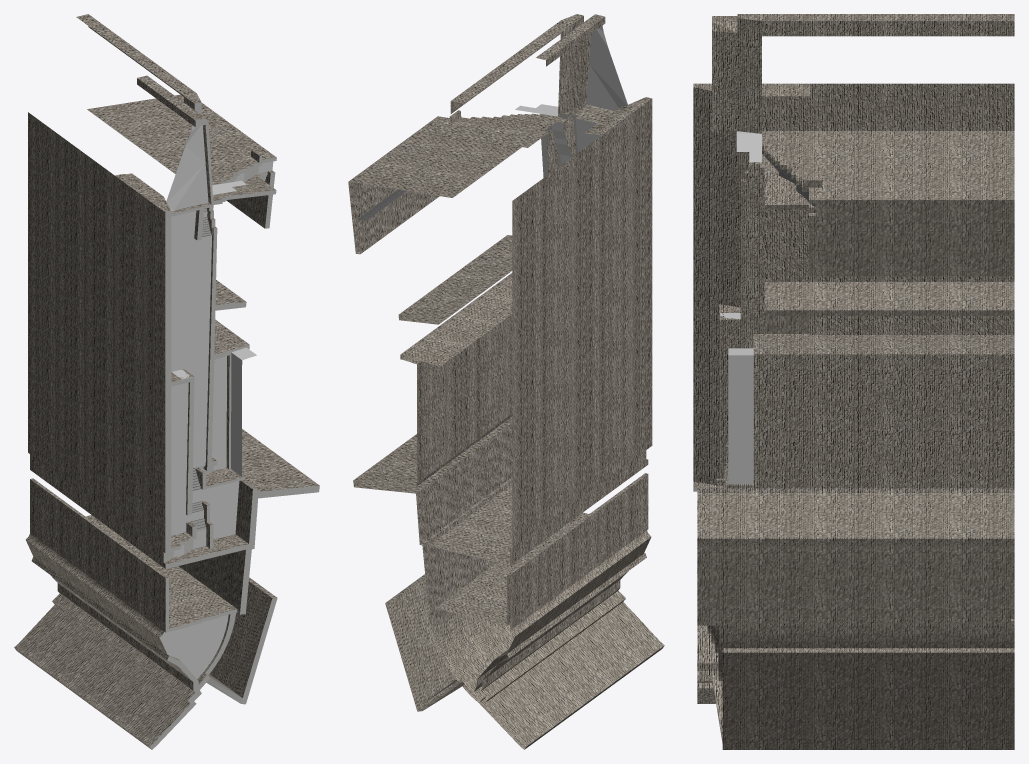
File: Taani_kuninga_aed.obj
3 renders of one model, left to right at view 1: azimuth 30°, elevation 25°; view 2: azimuth 150°, elevation 25°; view 3: azimuth 270°, elevation 25°, orthographic. The views are drawn at different scales.
Visible parts, largest first — view 1: Taani_kuninga_aed; view 2: Taani_kuninga_aed; view 3: Taani_kuninga_aed.
Boxes of the visible parts, x1,y1,x2,y2 form: Taani_kuninga_aed: [14, 14, 319, 749]; Taani_kuninga_aed: [348, 14, 664, 749]; Taani_kuninga_aed: [693, 14, 1014, 749].
Bounding box in the file's own units: 27.96 × 94.54 × 38.
